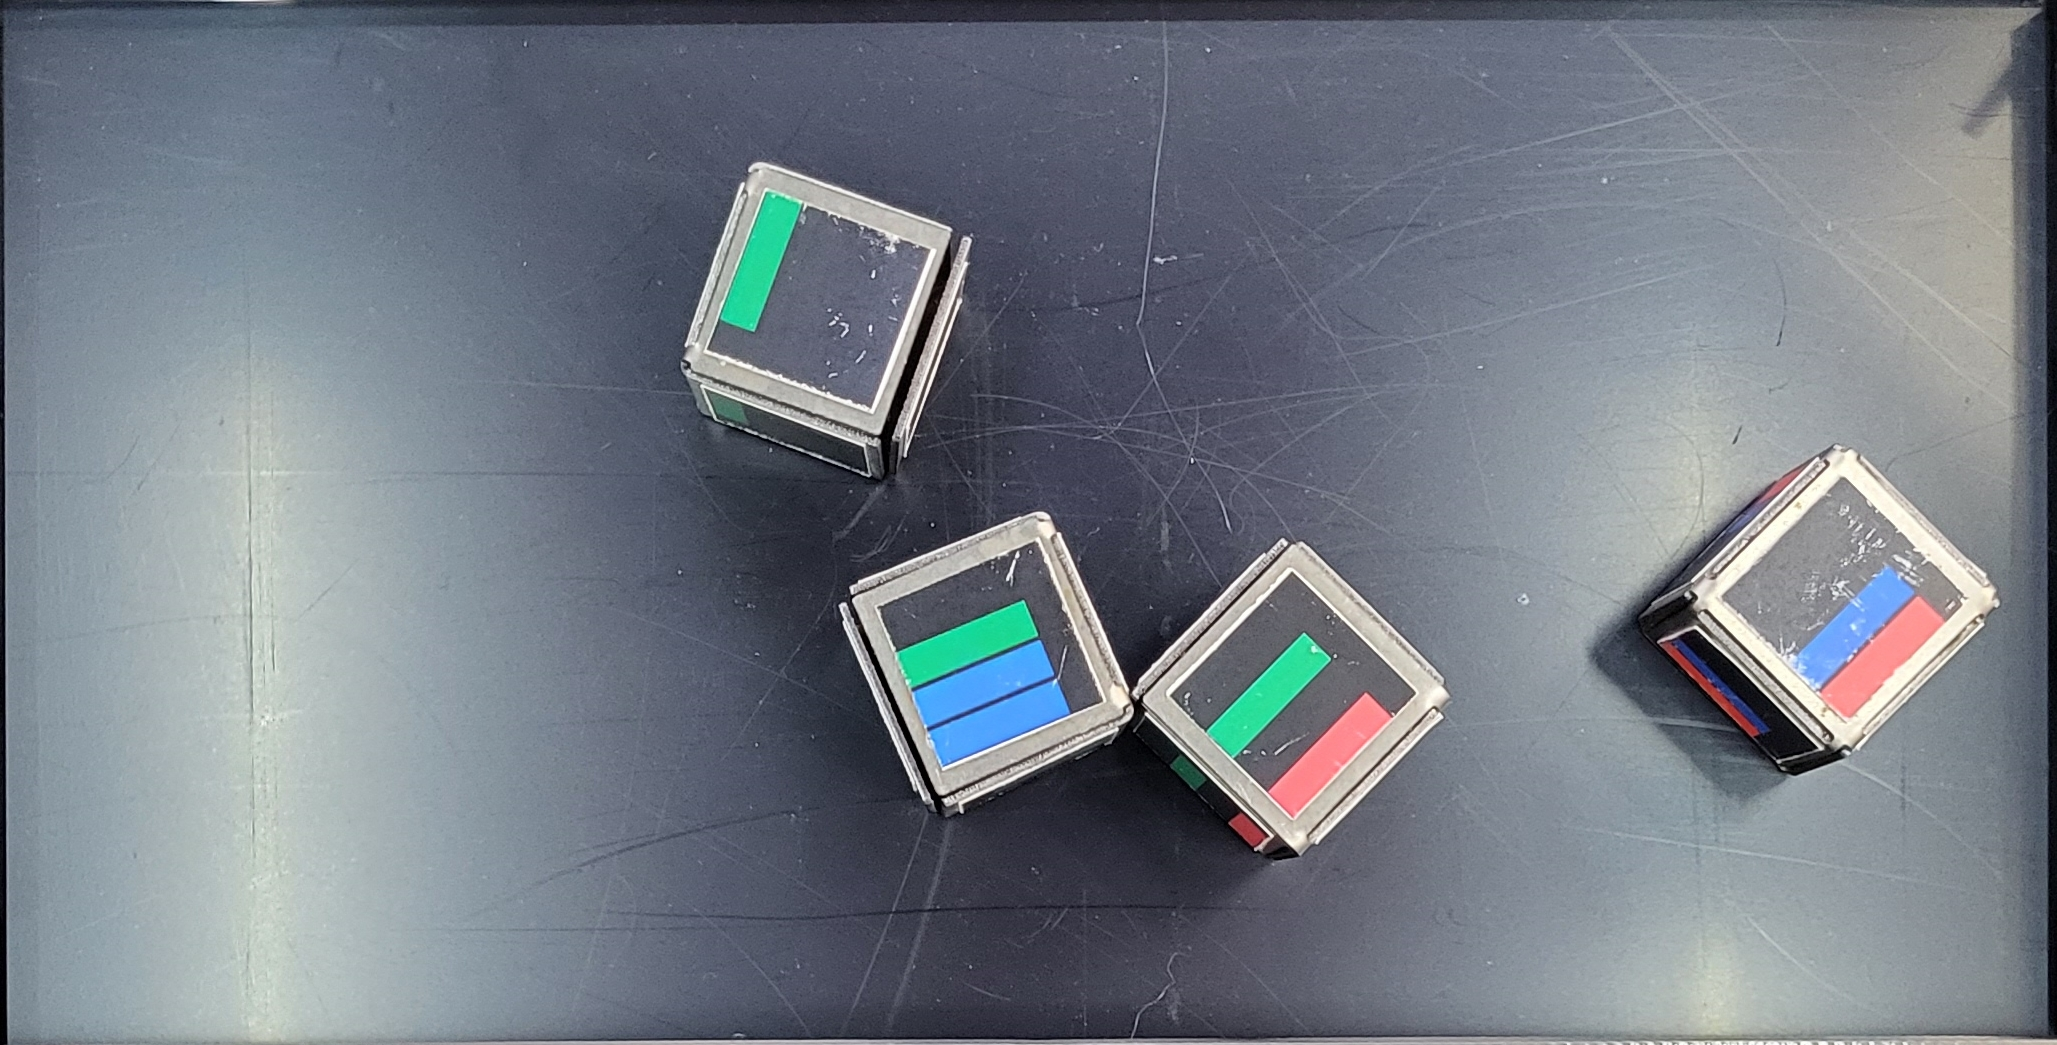Cube: (1110, 504, 1473, 874), (815, 489, 1156, 850), (1669, 423, 2005, 777), (667, 137, 986, 471)
